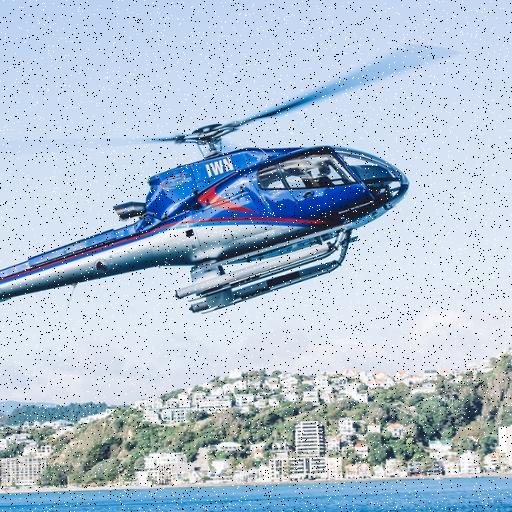helicopter: (1, 38, 472, 320)
